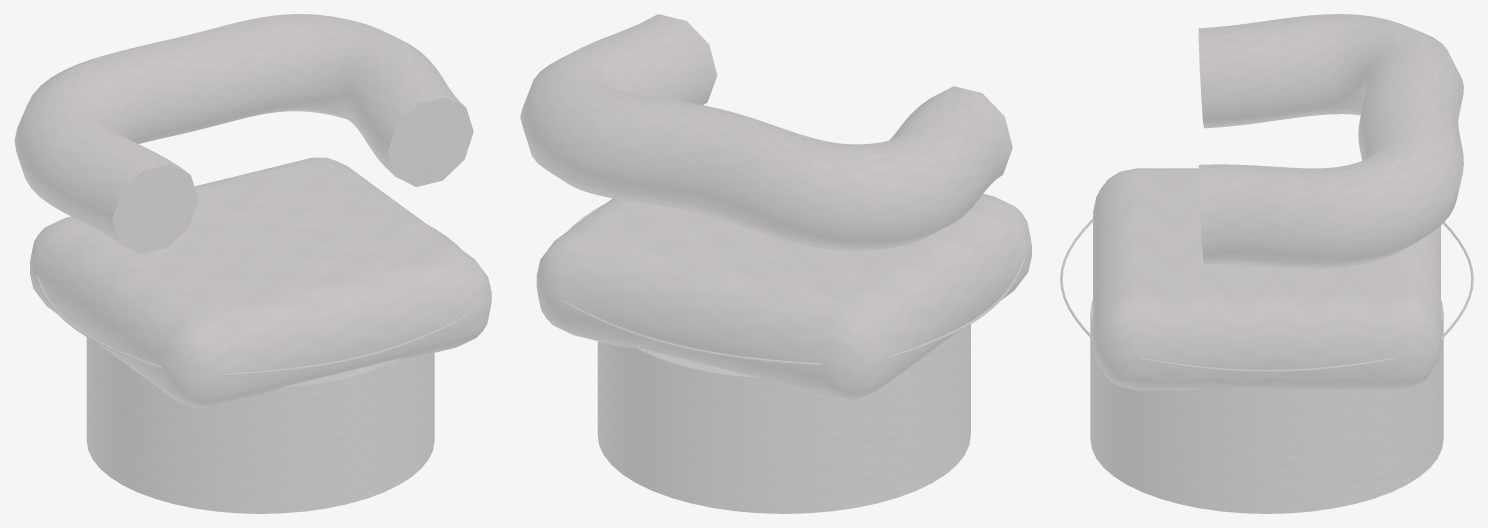
File: ref06_01.glb
3 renders of one model, left to right at view 1: azimuth 30°, elevation 25°; view 2: azimuth 150°, elevation 25°; view 3: azimuth 270°, elevation 25°, orthographic. The views are drawn at different scales.
Parts seen in each view (by area): view 1: ref06_01; view 2: ref06_01; view 3: ref06_01.
Boxes of the visible parts, left/top/right/bottom form: ref06_01: left=14, top=14, right=491, bottom=513; ref06_01: left=520, top=14, right=1031, bottom=513; ref06_01: left=1060, top=14, right=1473, bottom=513.
Bounding box in the file's own units: 0.9211 × 0.7782 × 0.8198.
1 material, 1 textured.
